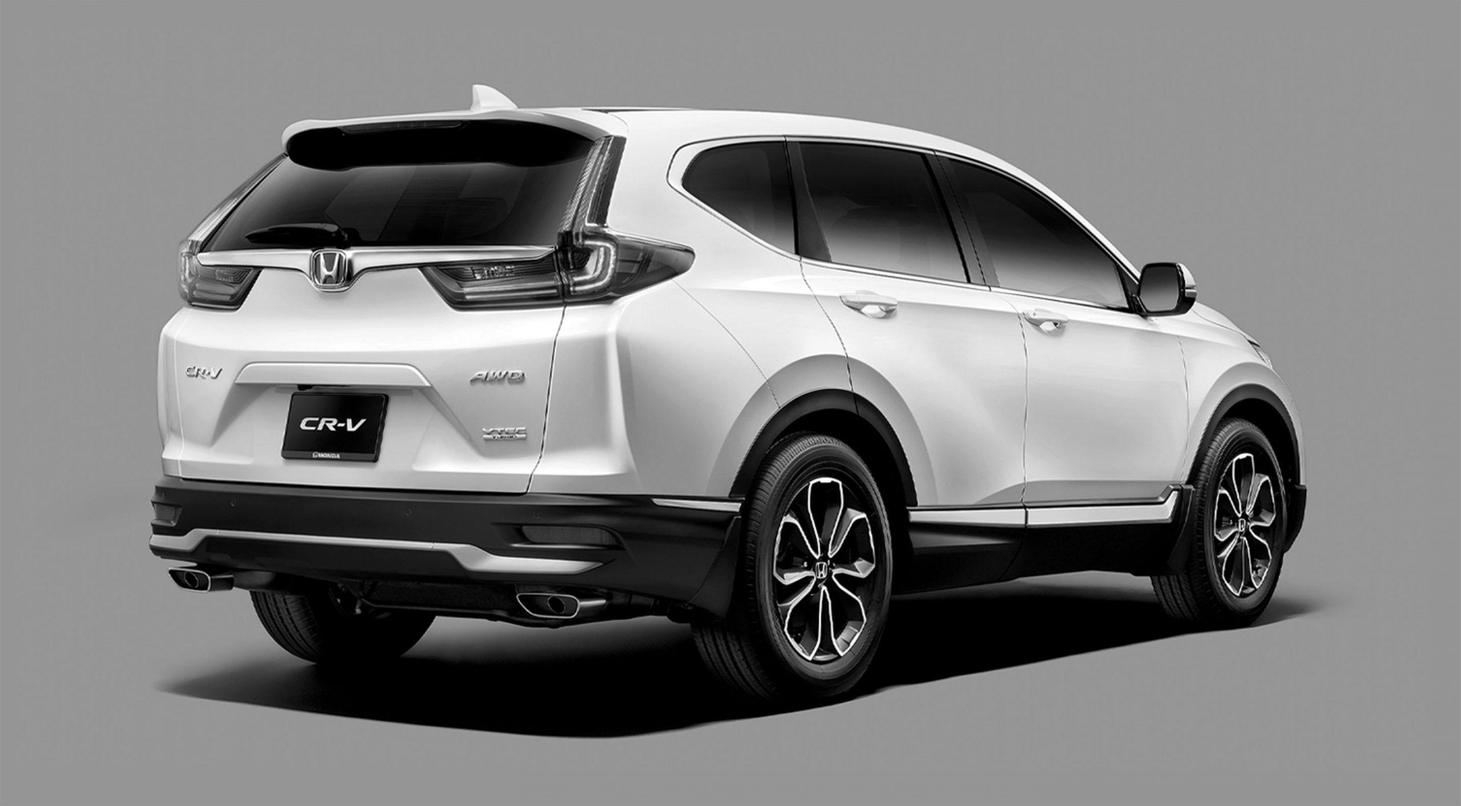Car boot: (167, 101, 607, 497)
Driver-s door - -F-R-: (930, 96, 1198, 600)
Fender - -F-R-: (1167, 304, 1304, 534)
Fender - -R-R-: (601, 95, 858, 425)
Passenger-s door - -R-R-: (772, 101, 1037, 600)
Rear bumper: (141, 473, 746, 627)
Rear light - -L-: (177, 233, 266, 310)
Rear light - -R-: (411, 228, 695, 310)
Side bumper - -R-: (902, 488, 1189, 594)
Side mirror - -R-: (1113, 254, 1203, 324)
